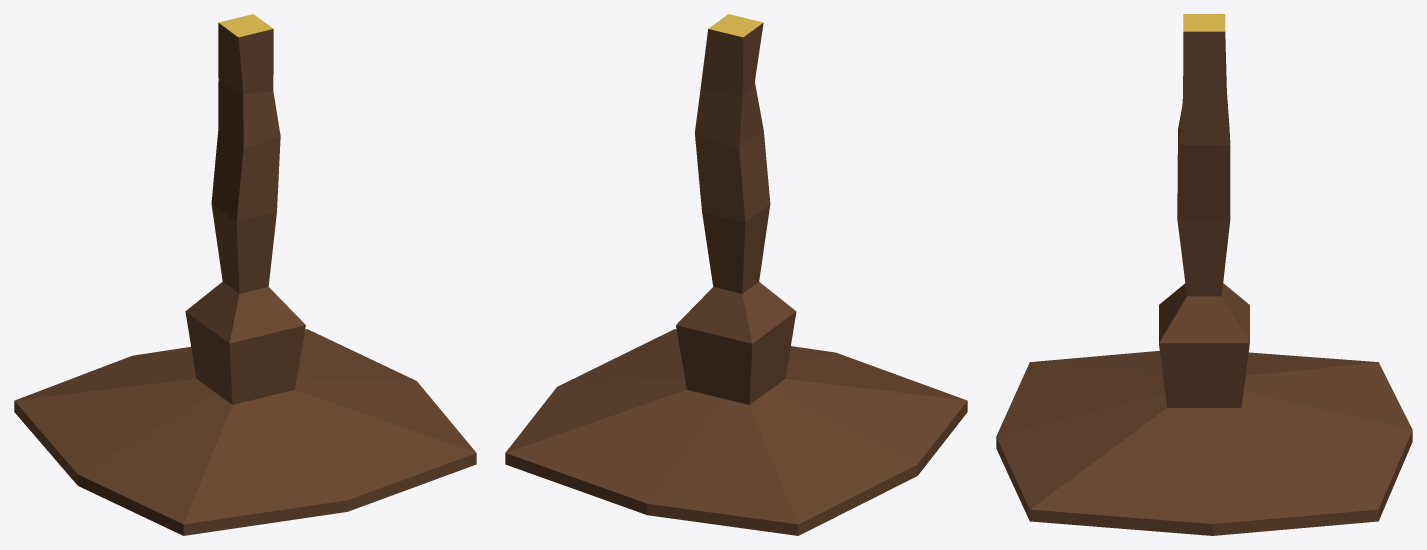
Rendered from tableLeg_normal.glb.
3 views of the same model, side by side, from view 1: azimuth 30°, elevation 25°; view 2: azimuth 150°, elevation 25°; view 3: azimuth 270°, elevation 25° (orthographic). The views are drawn at different scales.
Visible parts, largest first — view 1: TableLeg; view 2: TableLeg; view 3: TableLeg.
Boxes of the visible parts, x1,y1,x2,y2 form: TableLeg: (14,14,476,535); TableLeg: (505,14,967,535); TableLeg: (996,14,1412,535).
Bounding box in the file's own units: 0.4684 × 0.5277 × 0.4684.
